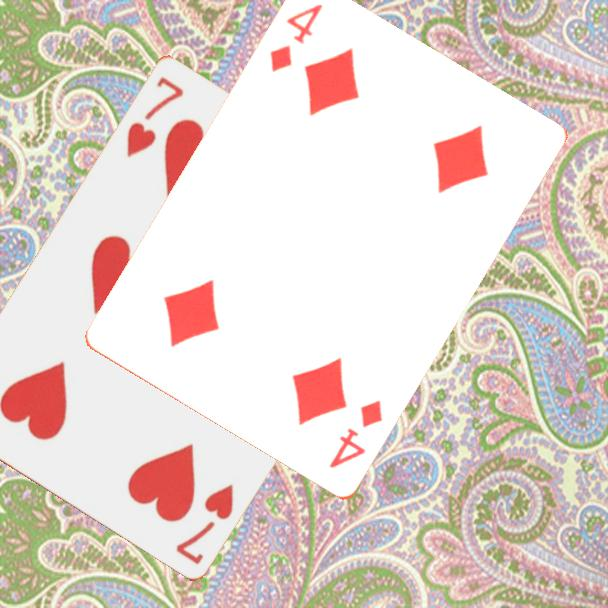d04: (325, 397, 386, 472), (266, 1, 326, 76)
h07: (122, 72, 187, 160), (172, 479, 237, 567)
